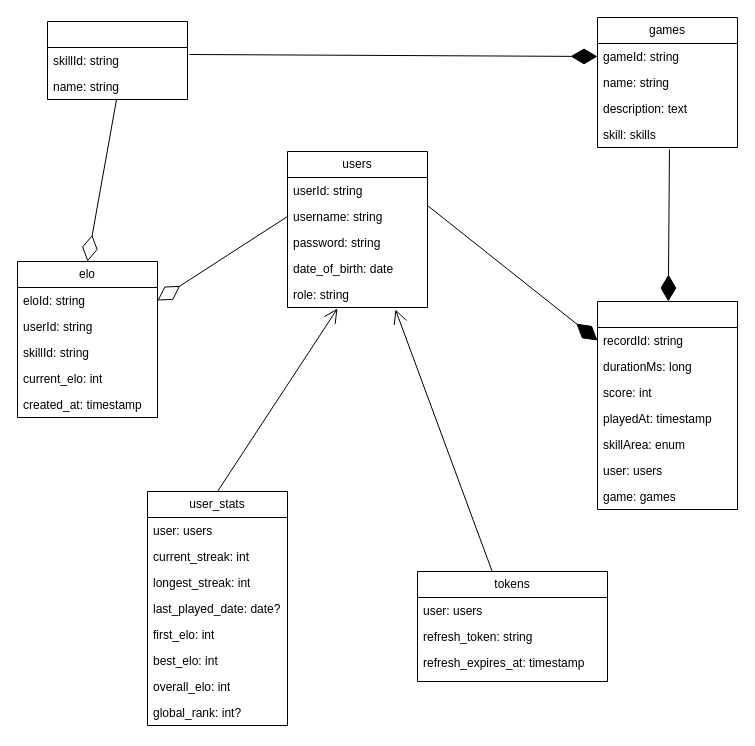
The diagram is 755 pixels wide and 746 high, and some of its shapes have lost their labels. Here are the shapes that lost their labels. From the top down, the box of each, then its label:
(46, 20, 188, 100): skills
(596, 300, 738, 510): records
